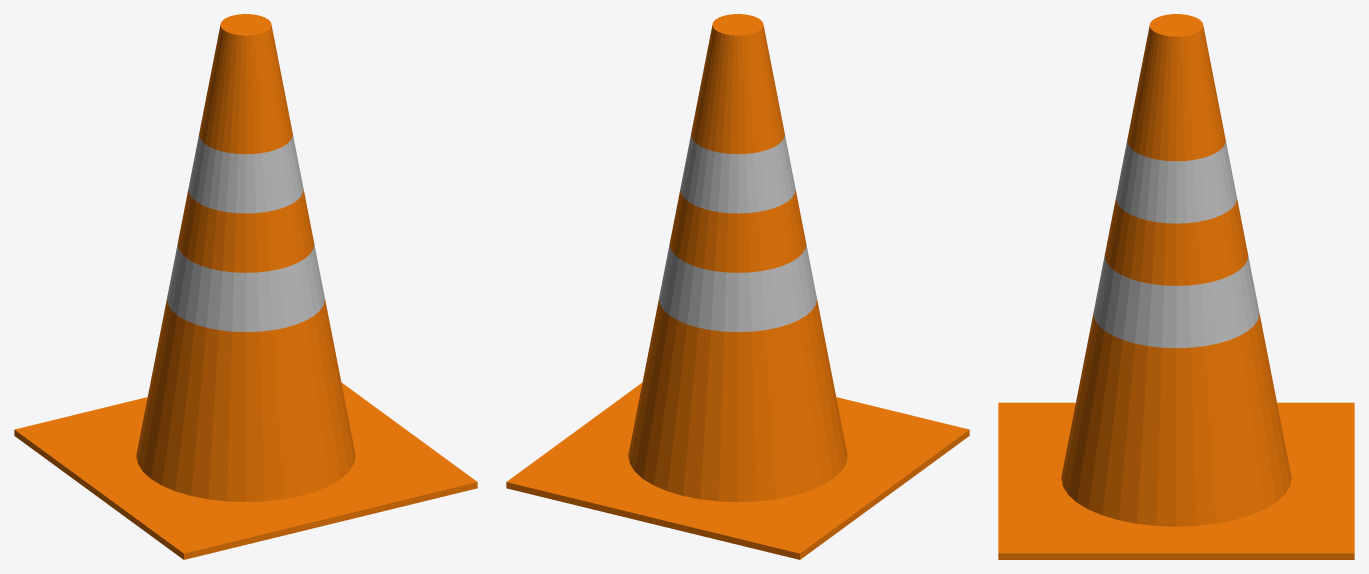
The picture shows the model from 3 angles, left to right: view 1: azimuth 30°, elevation 25°; view 2: azimuth 150°, elevation 25°; view 3: azimuth 270°, elevation 25°; orthographic projection. The views are drawn at different scales.
Parts seen in each view (by area): view 1: Cône, Cube; view 2: Cône, Cube; view 3: Cône, Cube.
Part boxes in pixels (x1,y1,x2,y2): Cône: (136,14,355,502); Cube: (14,382,477,559); Cône: (628,14,847,502); Cube: (506,382,969,559); Cône: (1061,14,1291,526); Cube: (998,402,1354,559).
Bounding box in the file's own units: 305 × 435 × 305.
